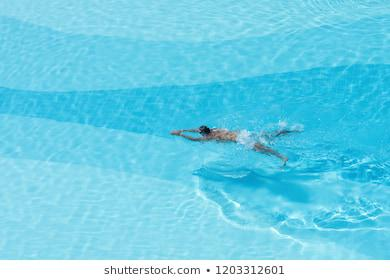swimmer: (172, 125, 290, 164)
